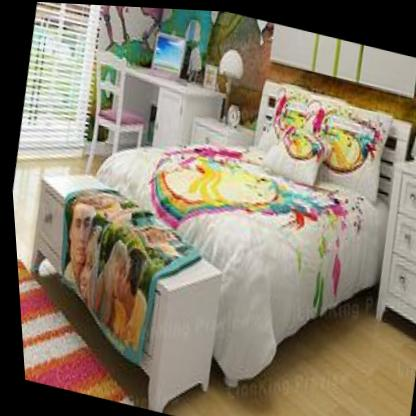Bed: (94, 78, 396, 378)
Carpet: (14, 262, 128, 405)
Chair: (70, 42, 158, 187)
Nightstand: (372, 159, 416, 327)
Table: (101, 58, 231, 170)
